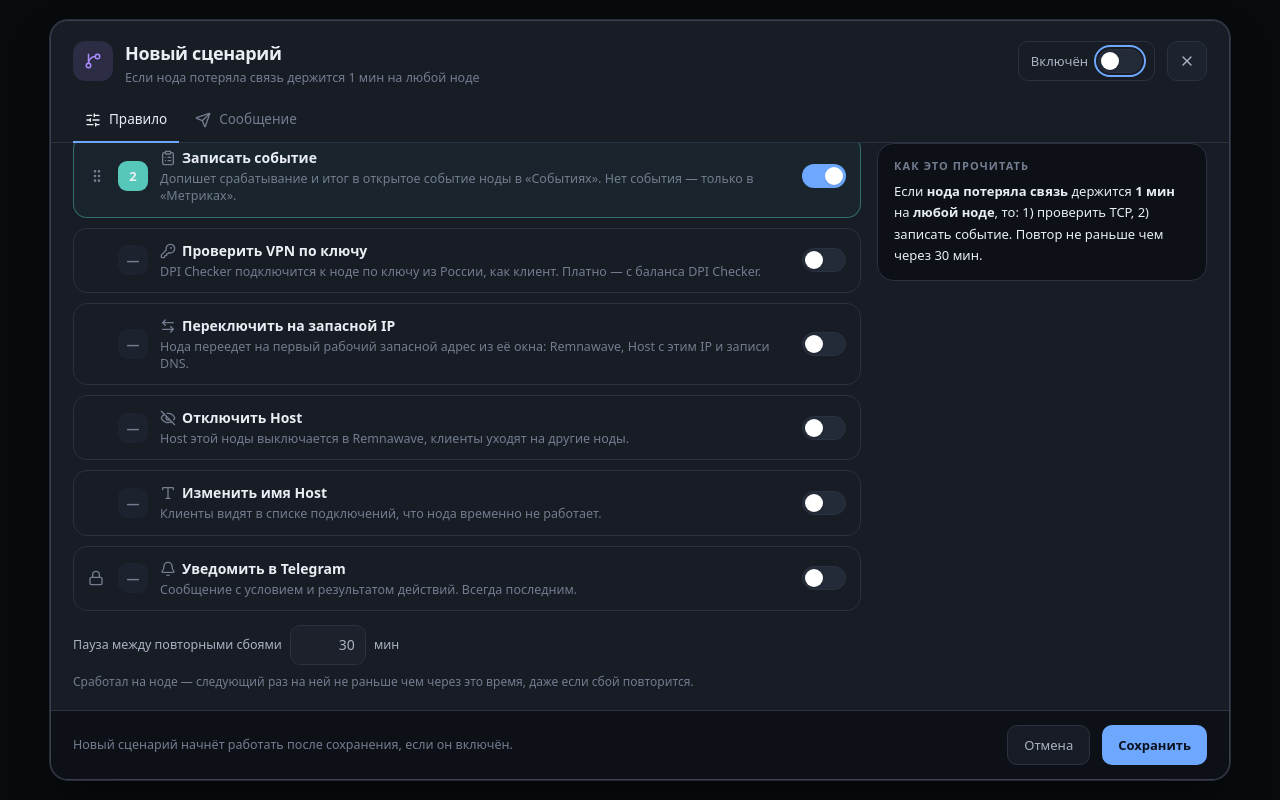
Test: Редактор сценария «Если → то» › пример сообщения Telegram — теми же строками, что отправит сервер
(page scrolled)
Step 1. Click the switch named "Шаг «Уведомить в Telegram»" → (824, 578), box [802,566,846,590]
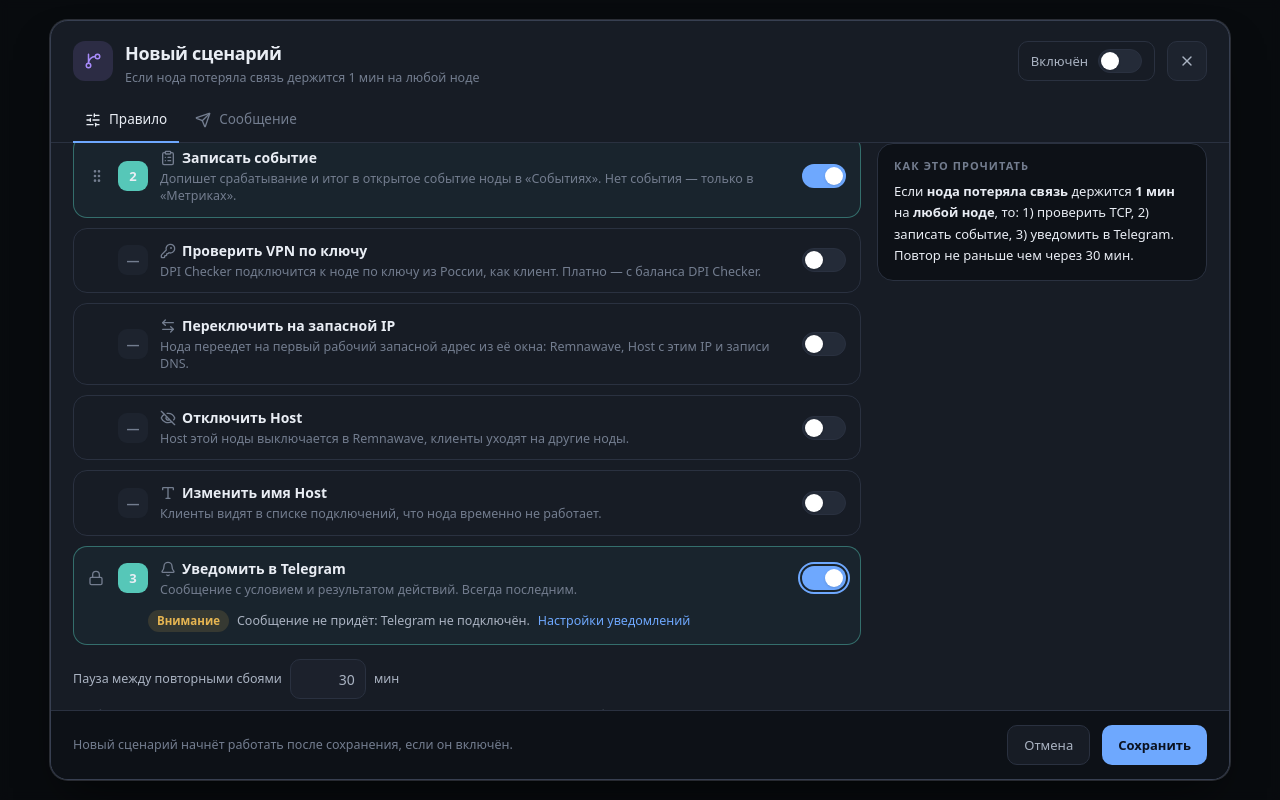
# Пример сообщения — на своей вкладке окна.
Step 2. Click the tab "Сообщение" → (246, 120), box [183,98,309,142]
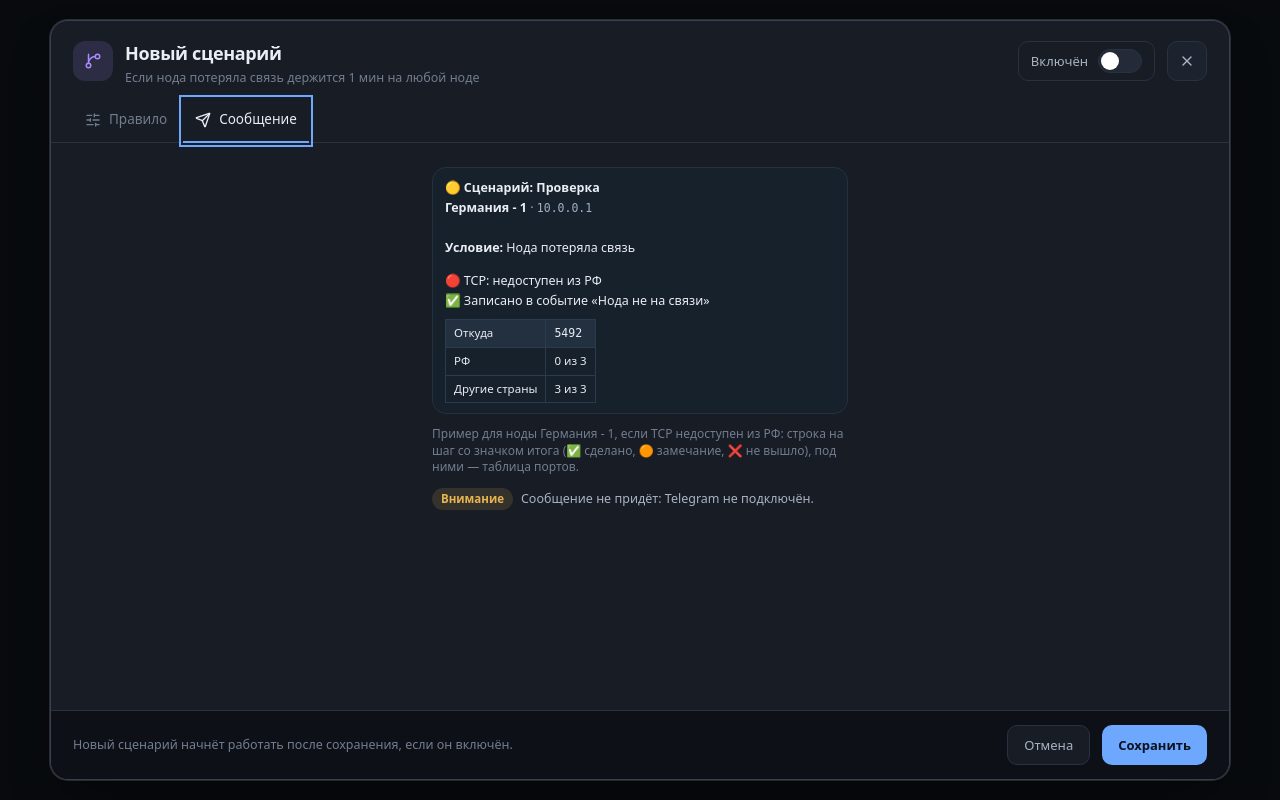
Expected: the table reads "Откуда 5492 РФ 0 из 3 Другие страны 3 из 3", [445,319,596,404]
